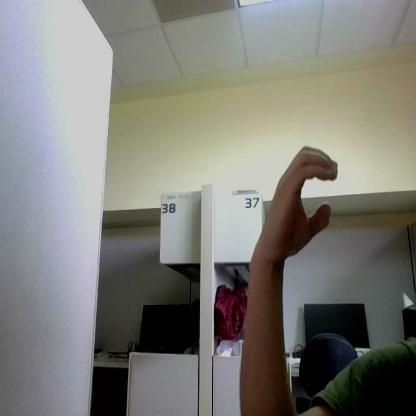C: (267, 148, 337, 256)
